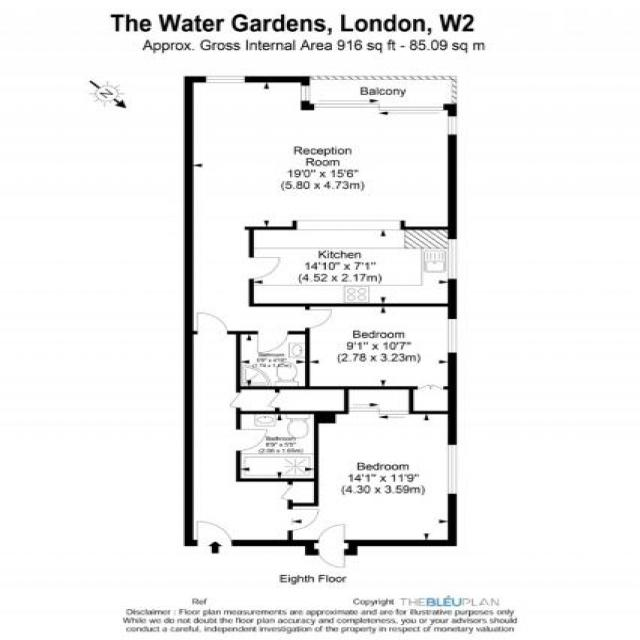DOOR: (196, 519, 234, 547), (286, 507, 321, 532), (247, 256, 282, 280), (256, 330, 290, 354), (196, 311, 229, 335), (235, 428, 268, 452), (317, 547, 347, 569), (316, 523, 347, 544), (304, 309, 334, 330)
ROOM: (183, 75, 458, 355), (287, 410, 457, 569), (248, 220, 457, 307), (304, 303, 458, 390)
SLIDING DOOR: (311, 102, 445, 111)
WINDOW: (446, 444, 457, 495), (447, 238, 458, 280), (447, 318, 458, 354), (205, 75, 246, 84), (446, 116, 457, 136), (300, 85, 312, 102)
